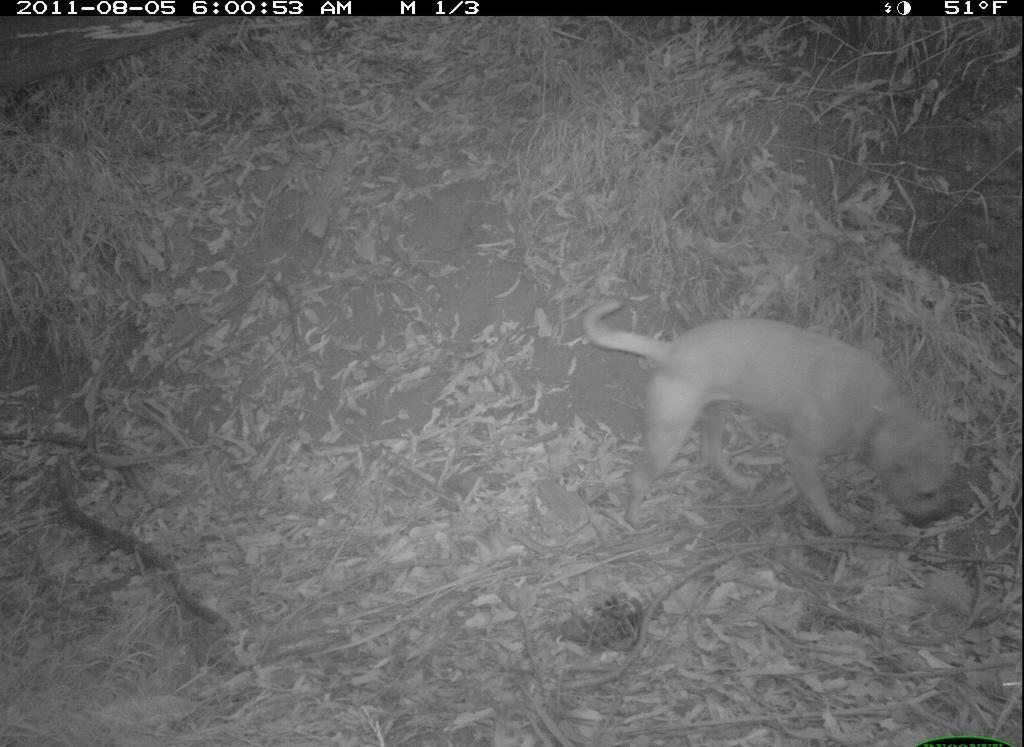dog: (568, 287, 977, 564)
